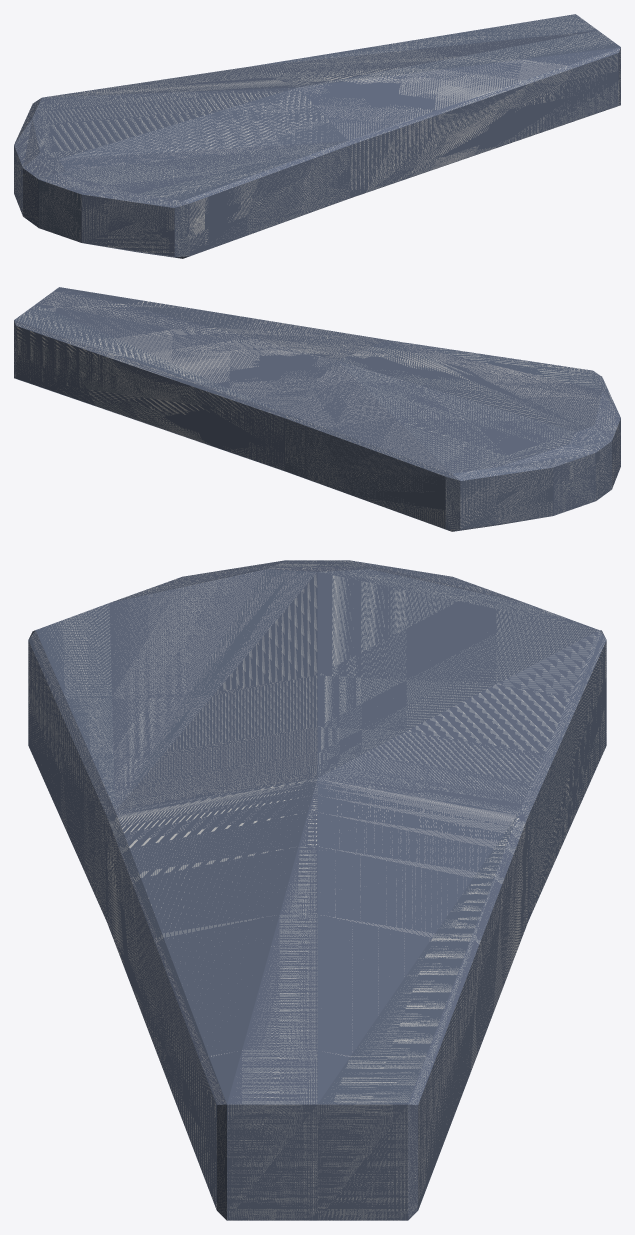
File: original-4.obj
3 renders of one model, top to bottom at view 1: azimuth 30°, elevation 25°; view 2: azimuth 150°, elevation 25°; view 3: azimuth 270°, elevation 25°, orthographic. The views are drawn at different scales.
Visible parts, largest first — view 1: mesh4/mesh4-geometry#mesh4-geometry; view 2: mesh4/mesh4-geometry#mesh4-geometry; view 3: mesh4/mesh4-geometry#mesh4-geometry.
Boxes of the visible parts, left/top/right/bottom form: mesh4/mesh4-geometry#mesh4-geometry: left=14, top=14, right=620, bottom=258; mesh4/mesh4-geometry#mesh4-geometry: left=14, top=287, right=620, bottom=531; mesh4/mesh4-geometry#mesh4-geometry: left=28, top=560, right=606, bottom=1220.
Size of the model in its own units: 0.1356 by 0.017 by 0.0598.
